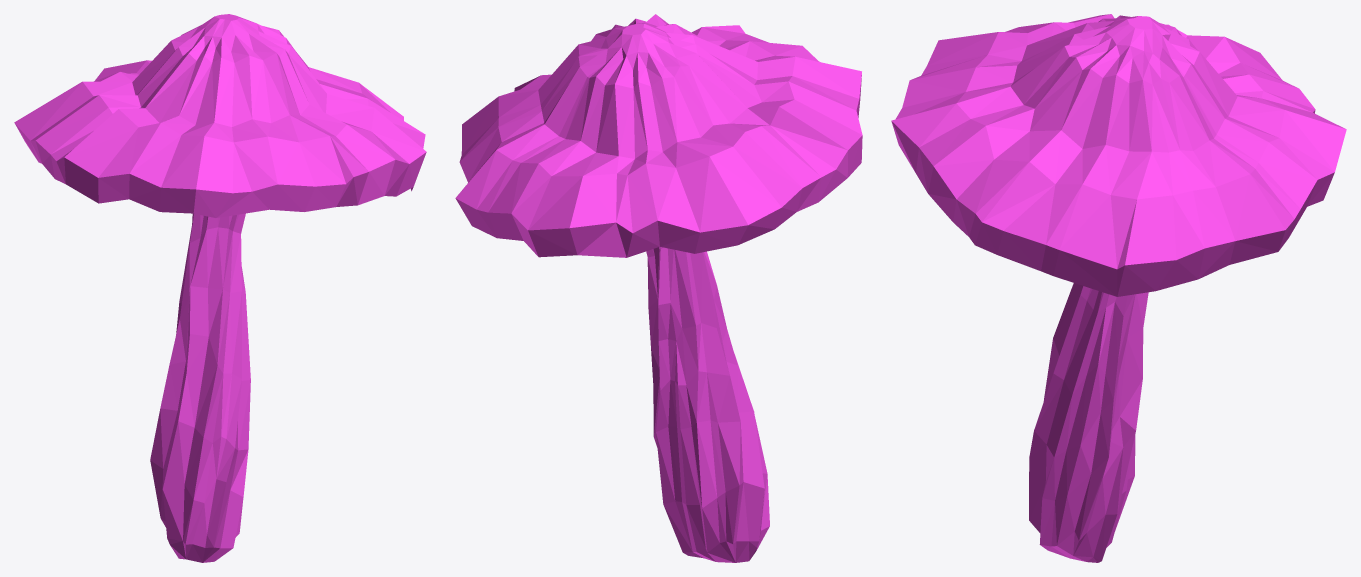
Rendered from SM_Mushroom_Glow_Big_B_Fantasy.fbx.
3 views of the same model, side by side, from view 1: azimuth 30°, elevation 25°; view 2: azimuth 150°, elevation 25°; view 3: azimuth 270°, elevation 25° (orthographic). The views are drawn at different scales.
Parts seen in each view (by area): view 1: SM_Mushroom_Glow_Big_B_Fantasy; view 2: SM_Mushroom_Glow_Big_B_Fantasy; view 3: SM_Mushroom_Glow_Big_B_Fantasy.
Boxes of the visible parts, <box> form: SM_Mushroom_Glow_Big_B_Fantasy: <box>14,14,426,562</box>; SM_Mushroom_Glow_Big_B_Fantasy: <box>455,14,862,562</box>; SM_Mushroom_Glow_Big_B_Fantasy: <box>891,14,1346,562</box>.
Size of the model in its own units: 2.7 by 3.72 by 2.72.
